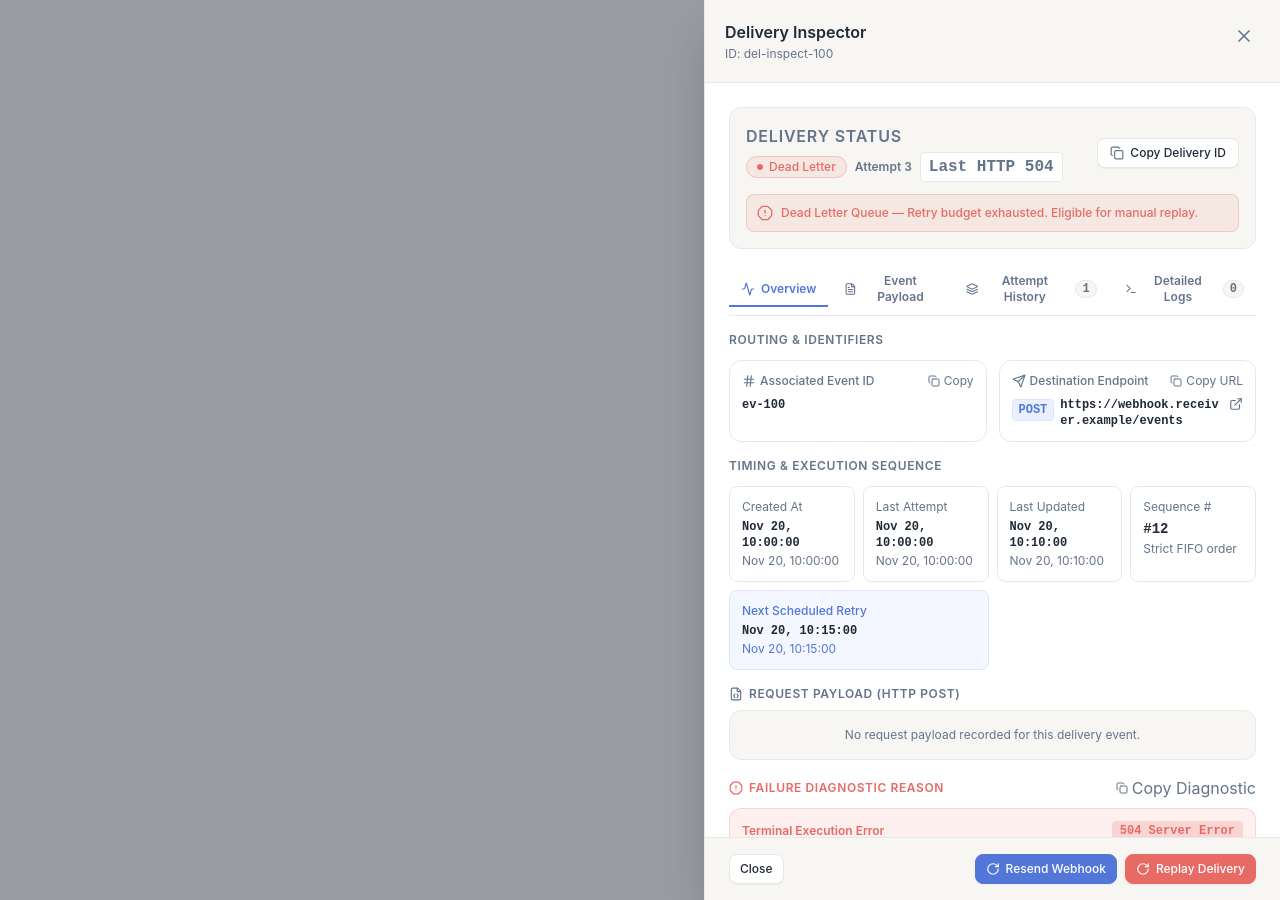
Test: Tanvi's Phase 2 Task: Delivery Inspector & Resend Flow (Frontend) › 1. DeliveryDetailDrawer: Metadata Inspection › renders Request Headers, Response Headers, and Response Body in expanded attempt view
Note: Switch to Attempt History tab
Click the button "Attempt History 1". click: (1031, 290)
box: [954, 265, 1109, 315]
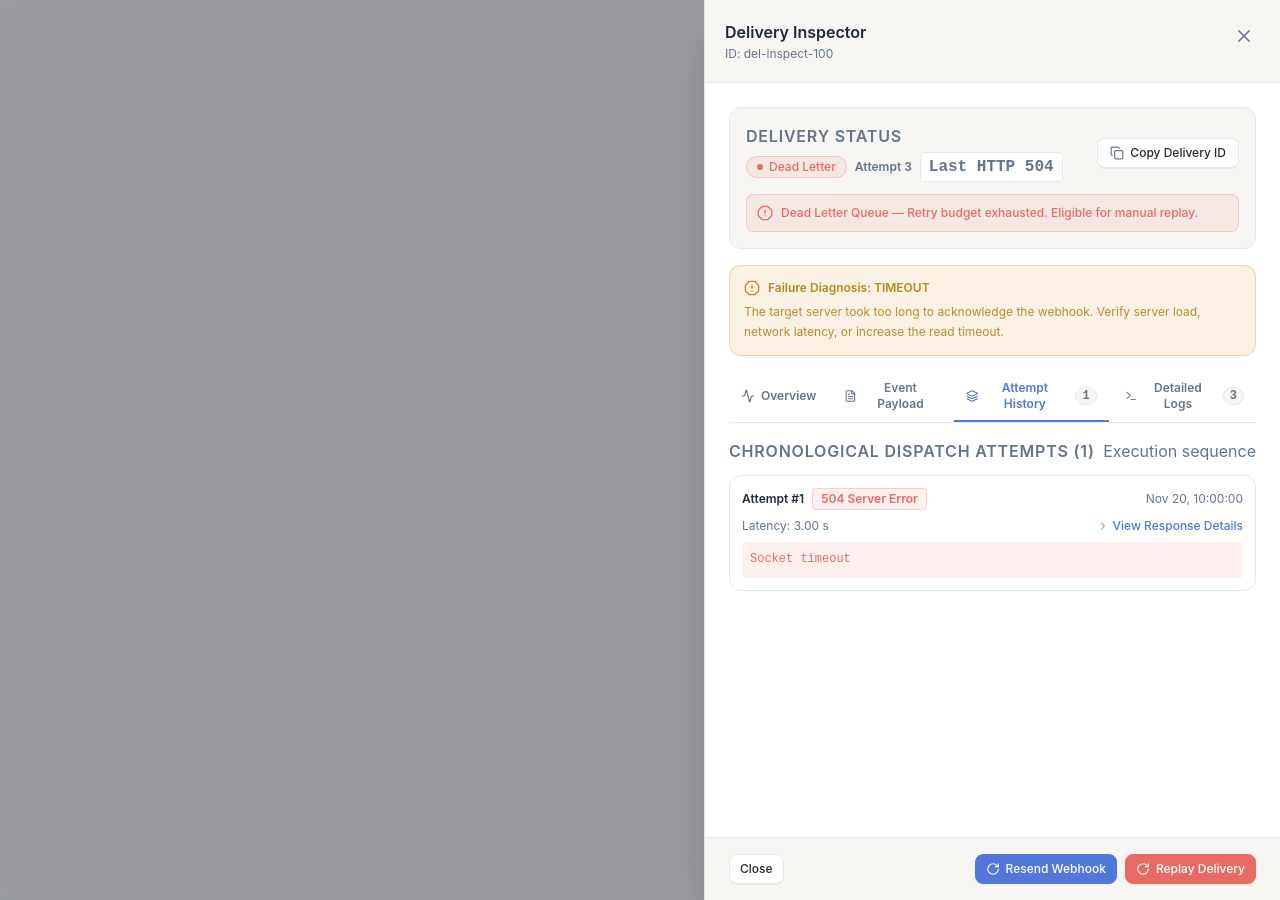
Check: the text "Attempt #1" is shown, box [742, 491, 804, 507]
Note: Click to expand details
Click the button "View Response Details". click: (1170, 526)
box: [1097, 518, 1243, 534]
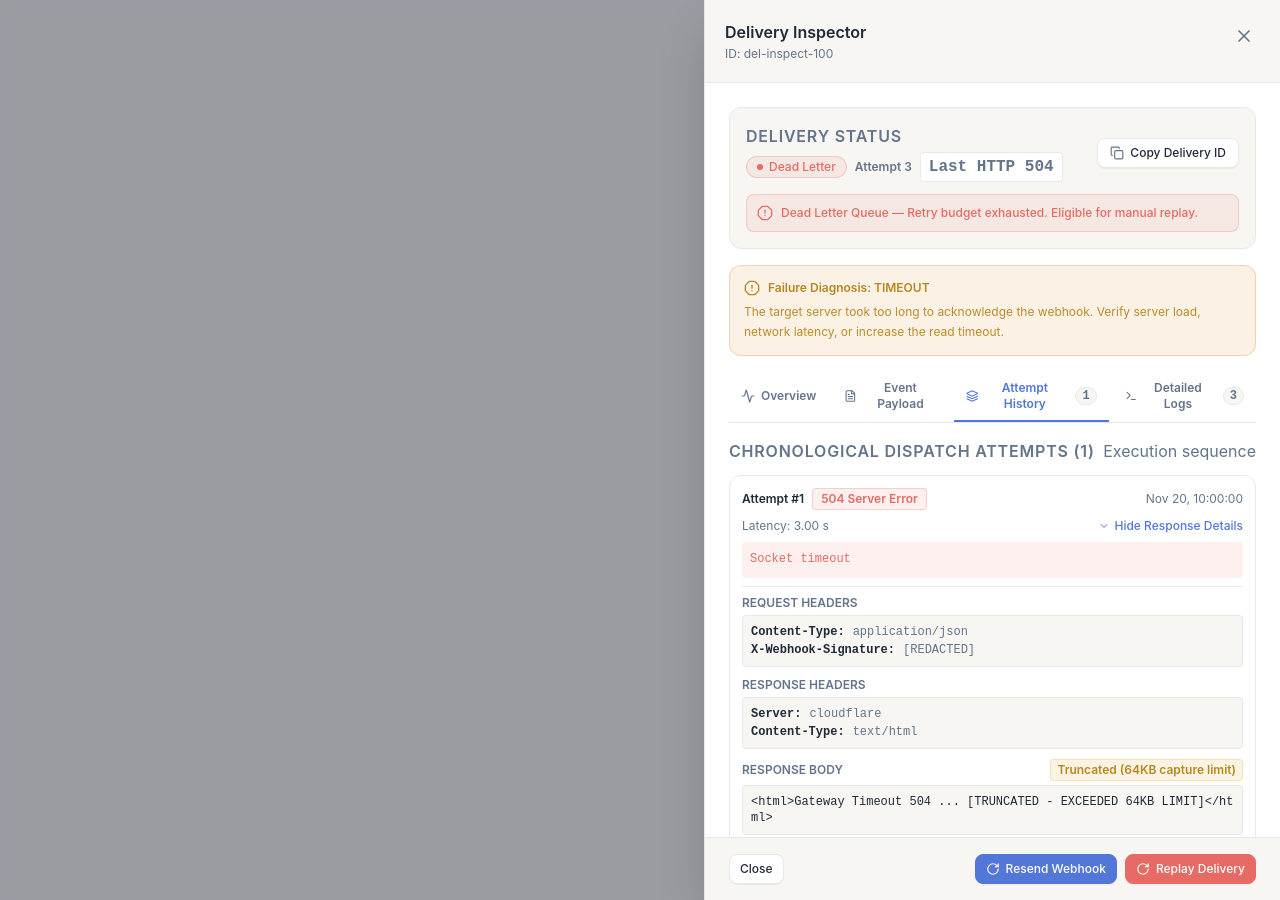
Check: the text "Request Headers" is shown, box [742, 594, 858, 610]
Check: the text "Content-Type:" is shown 2 times, box [751, 624, 845, 640]; [751, 724, 845, 740]
Check: the text "[REDACTED]" is shown, box [903, 642, 975, 658]
